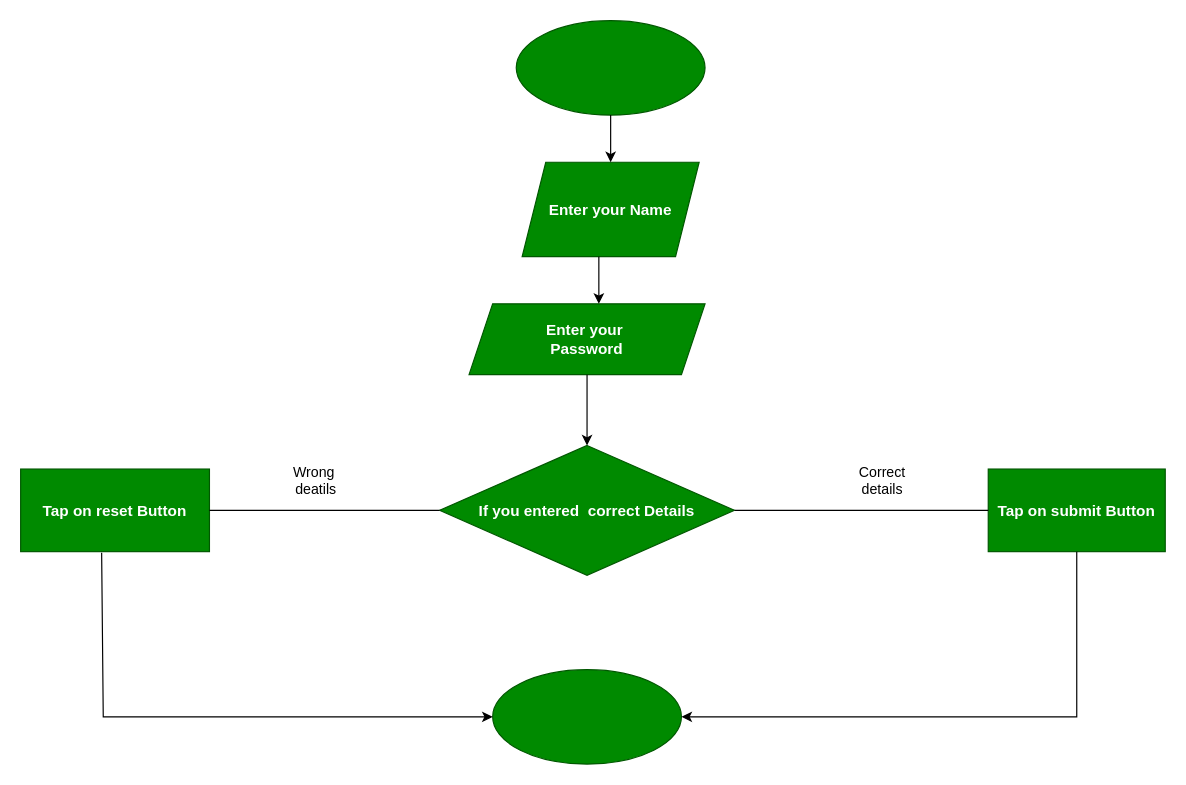
Image size: 1186x785. Some labels were removed from this diagram. Each missing label, with the centre of its shape:
"End" belongs at pixel 586 716.
"Open from Website" belongs at pixel 610 67.
